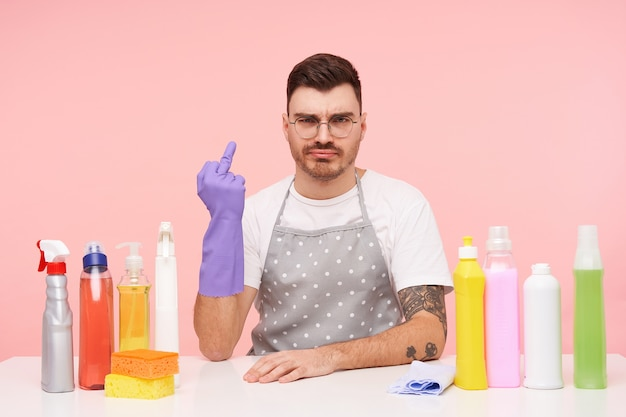insulting_gesture: (194, 137, 247, 222)
